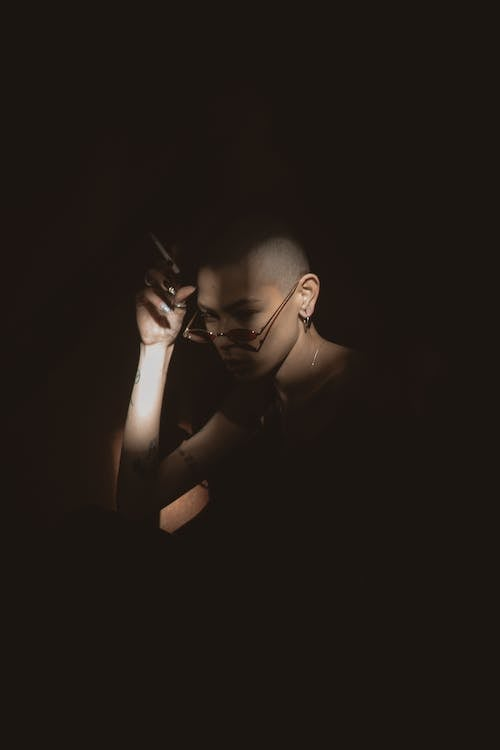cigarette: (150, 232, 183, 277)
